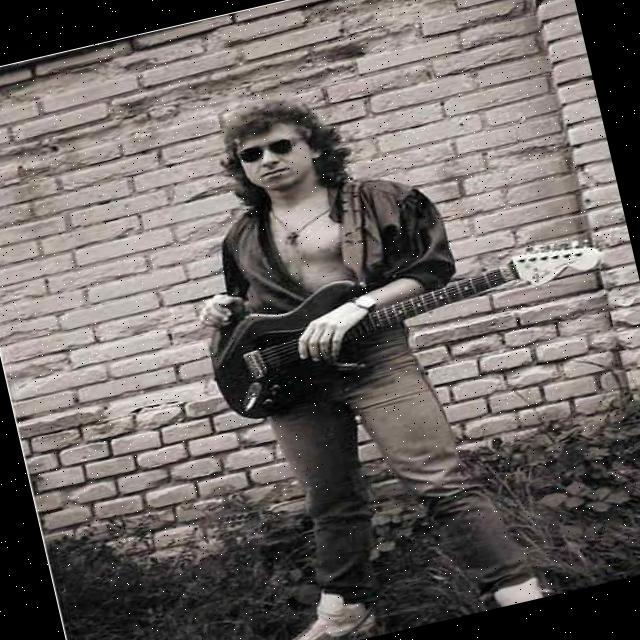guitar: (200, 218, 626, 431)
